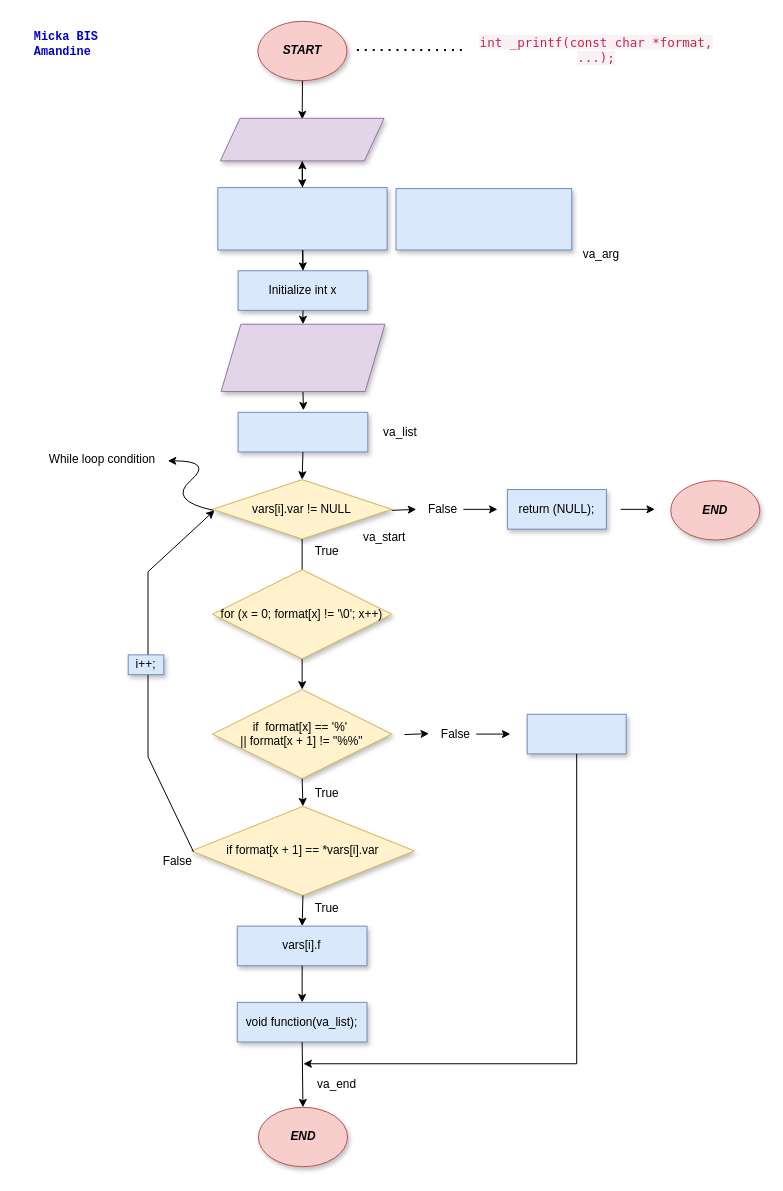
This 783x1191 diagram has some shape labels left out. The centre of each missing label's shape, as x and y in pixels:
2 functions void var_c(va_list p); void var_s(va_list p);: point (484, 220)
const char *format ... variadic: point (302, 140)
Initialize int i: point (303, 433)
Typedef Struct -> var_t char *var; void (*f)(va_list p);: point (303, 220)
var_t vars[].var = { {"c", var_c}, {"s", var_s}, {"%", var_%},: point (303, 358)
write (1, "%", 1): point (577, 735)
